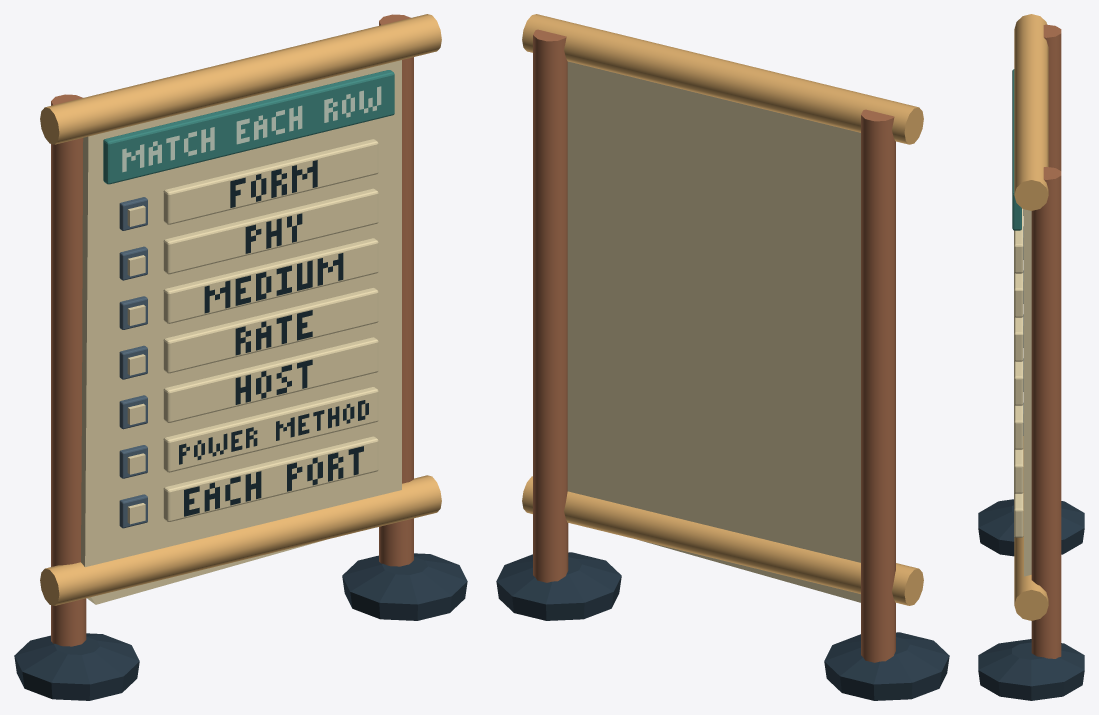
3 views of the same model, side by side, from view 1: azimuth 30°, elevation 25°; view 2: azimuth 150°, elevation 25°; view 3: azimuth 270°, elevation 25° (orthographic). The views are drawn at different scales.
Visible parts, largest first — view 1: PR088 enamel and hardware; view 2: PR088 enamel and hardware; view 3: PR088 enamel and hardware.
Boxes of the visible parts, x1=… form: PR088 enamel and hardware: x1=14, y1=14, x2=467, y2=700; PR088 enamel and hardware: x1=496, y1=14, x2=949, y2=700; PR088 enamel and hardware: x1=978, y1=14, x2=1084, y2=700.
Size of the model in its own units: 1.25 by 1.57 by 0.2972.
